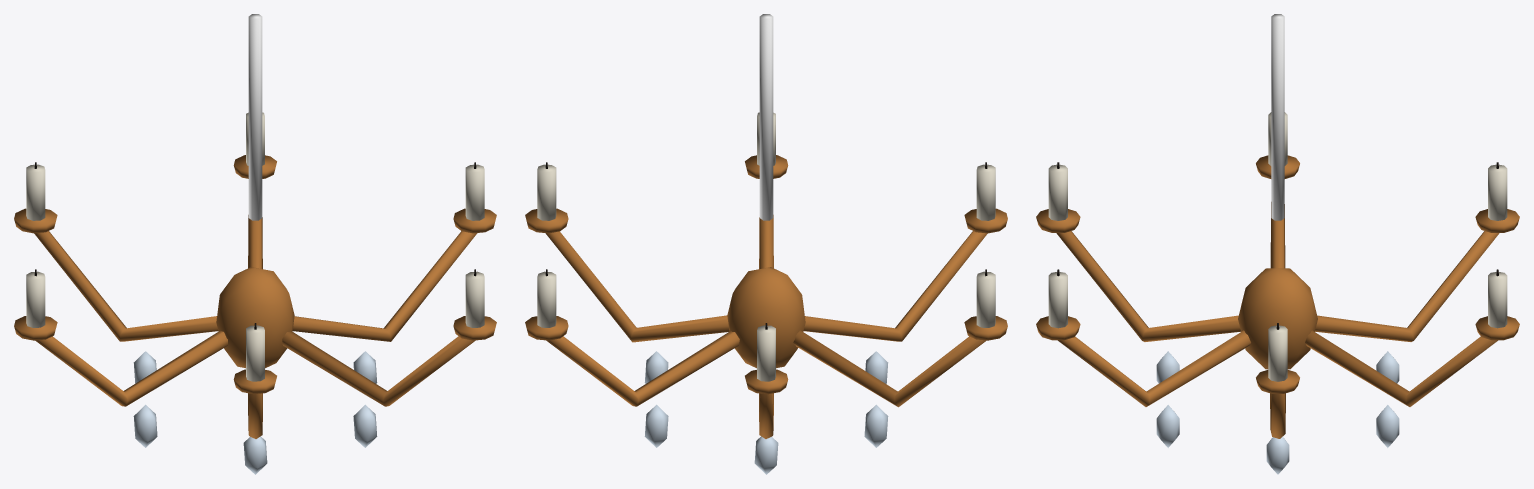
Rendered from lihzahrd_chandelier_v0.glb.
3 renders of one model, left to right at view 1: azimuth 30°, elevation 25°; view 2: azimuth 150°, elevation 25°; view 3: azimuth 270°, elevation 25°, orthographic.
Parts seen in each view (by area): view 1: lihzahrd_chandelier_v0; view 2: lihzahrd_chandelier_v0; view 3: lihzahrd_chandelier_v0.
Part boxes in pixels (left/top/right/bottom): lihzahrd_chandelier_v0: left=14, top=14, right=496, bottom=474; lihzahrd_chandelier_v0: left=525, top=14, right=1007, bottom=474; lihzahrd_chandelier_v0: left=1036, top=14, right=1519, bottom=474.
Size of the model in its own units: 1.24 by 1 by 1.09.
